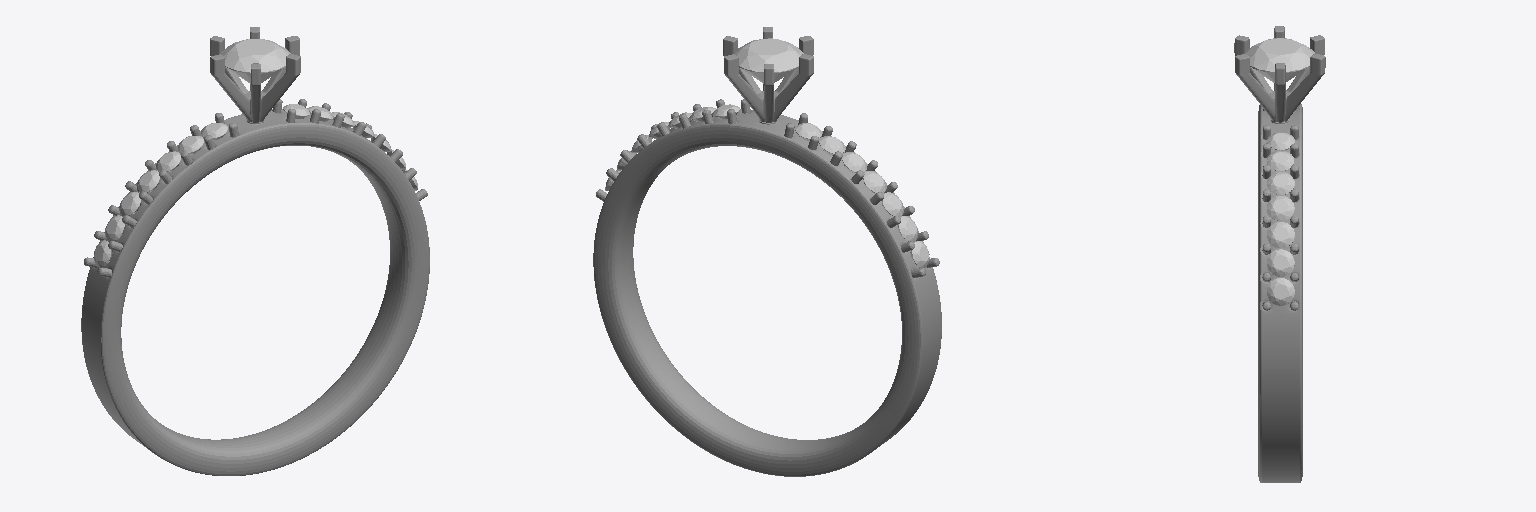
Rendered from ring.obj.
3 views of the same model, side by side, from view 1: azimuth 30°, elevation 25°; view 2: azimuth 150°, elevation 25°; view 3: azimuth 270°, elevation 25° (orthographic).
Visible parts, largest first — view 1: Round_Round.007; view 2: Round_Round.007; view 3: Round_Round.007.
Part boxes in pixels (left/top/right/bottom): Round_Round.007: left=81, top=27, right=429, bottom=475; Round_Round.007: left=593, top=27, right=941, bottom=476; Round_Round.007: left=1234, top=26, right=1325, bottom=482.
Size of the model in its own units: 7.13 by 8.65 by 1.71.